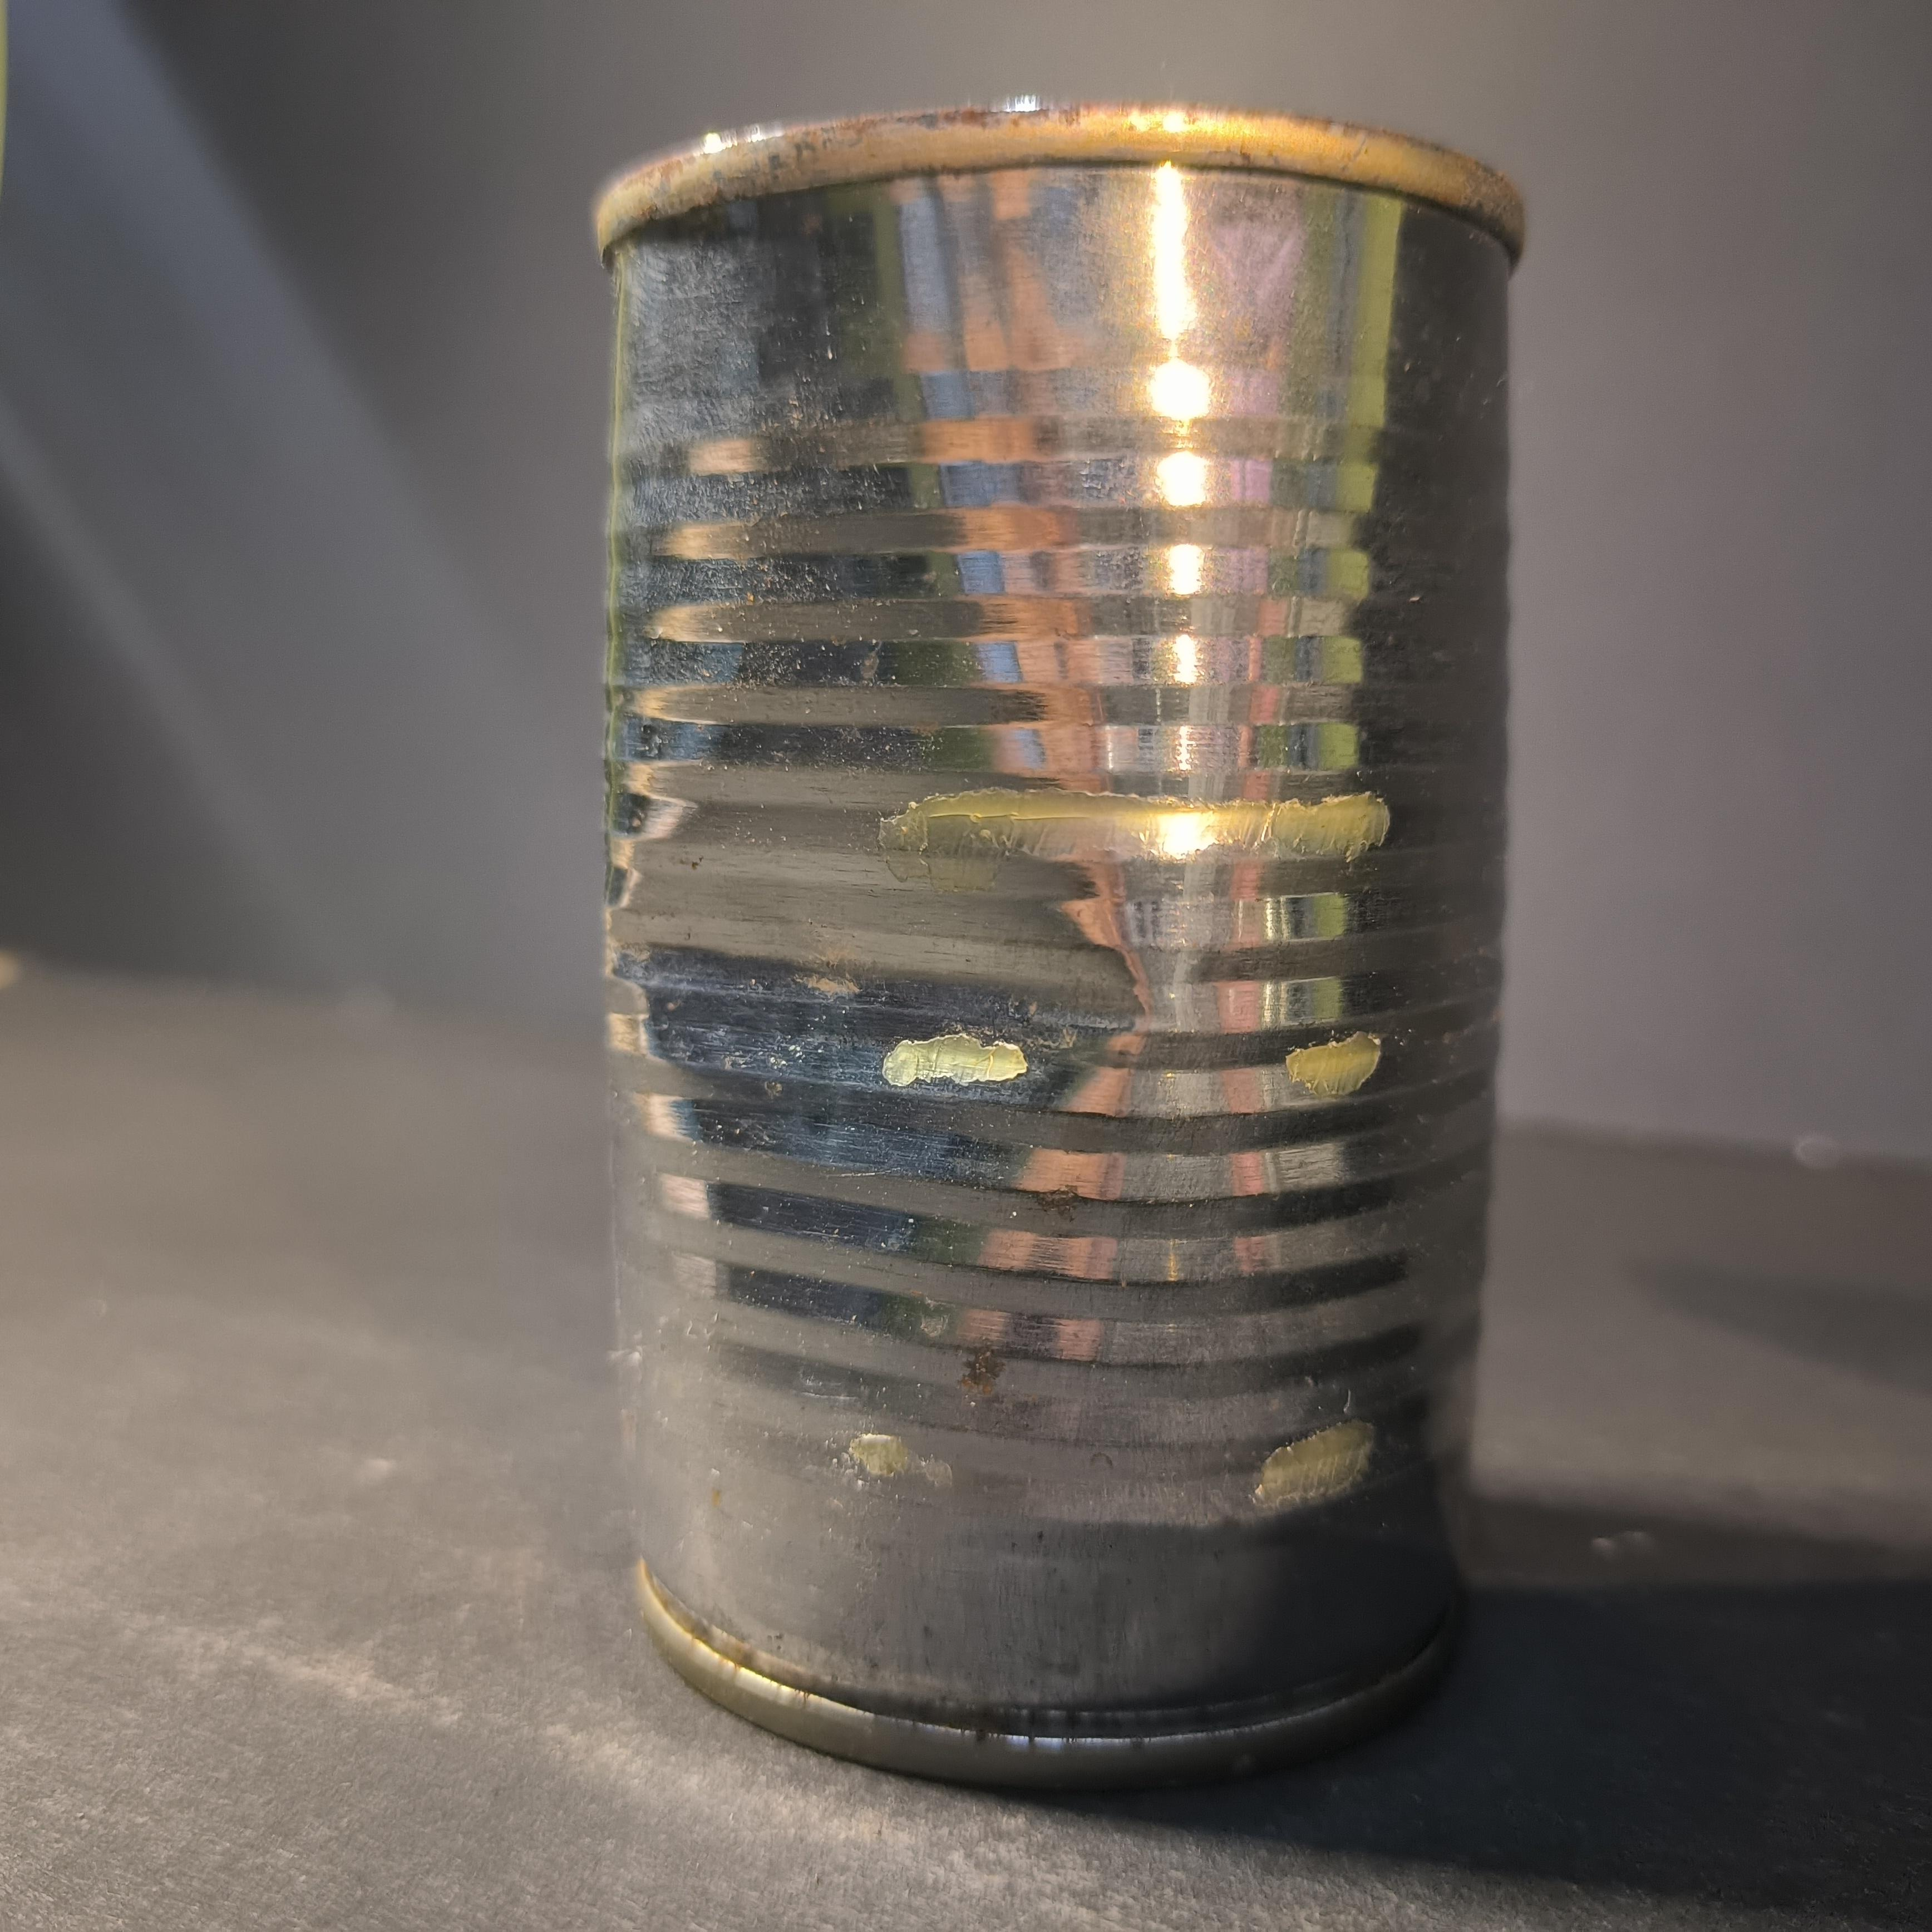Minor Defect: (582, 83, 1541, 1808)
